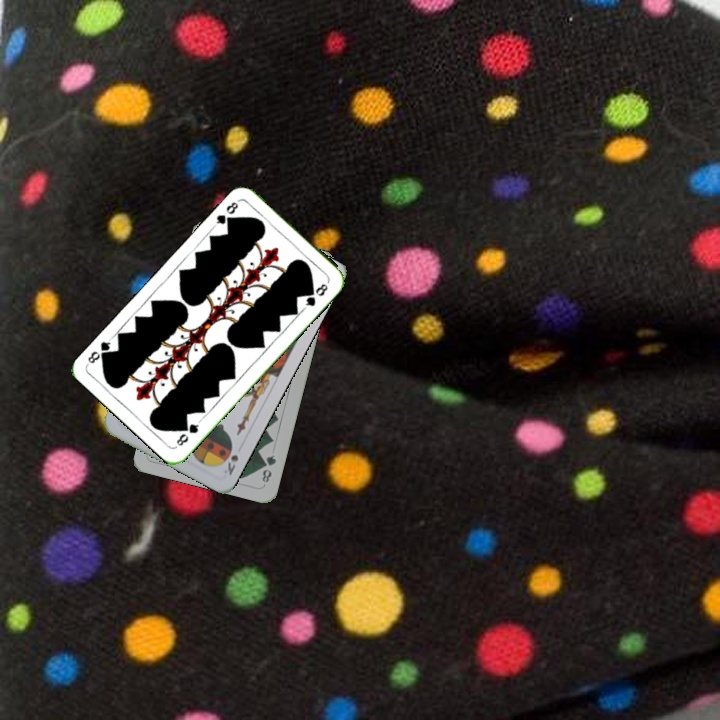G8: (172, 416, 203, 448), (210, 198, 241, 229), (258, 451, 279, 485)
SK: (219, 451, 241, 478)
